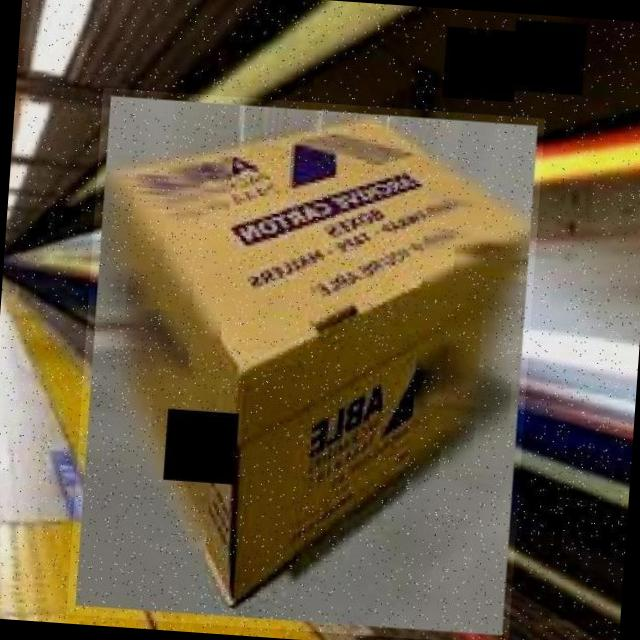box: (65, 87, 544, 640)
